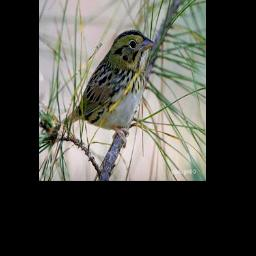Sparrow: (52, 28, 156, 147)
